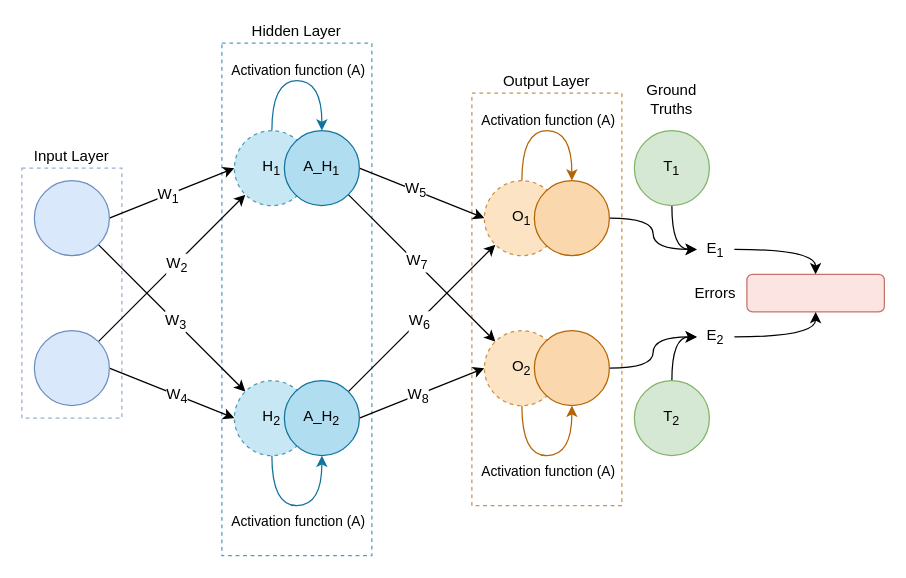
The diagram is 906 pixels wide and 578 high, and some of its shapes have lost their labels. The box of each missing label's shape, as (x1, y1, x2, y2) in pixels:
A_O 1: (533, 179, 609, 256)
A_O 2: (533, 329, 609, 406)
E T = E 1 + E 2: (746, 273, 884, 312)
I 1: (33, 179, 109, 256)
I 2: (33, 329, 109, 406)
